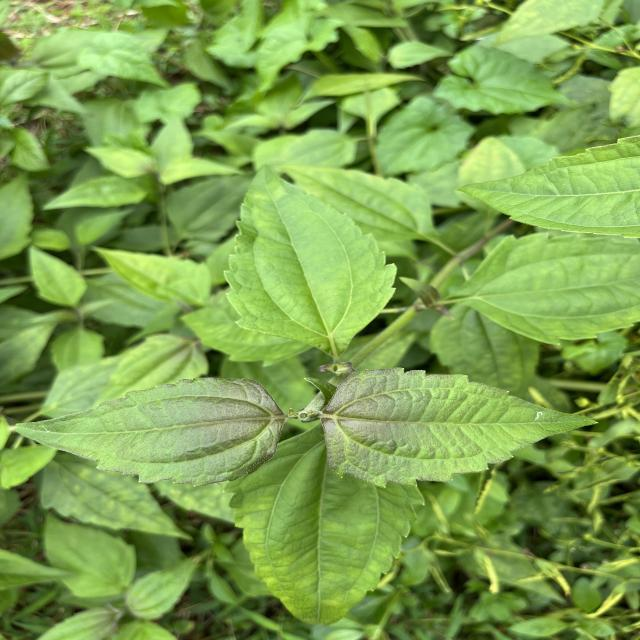Chromolaena odorata: (318, 364, 603, 494), (11, 374, 288, 489)
